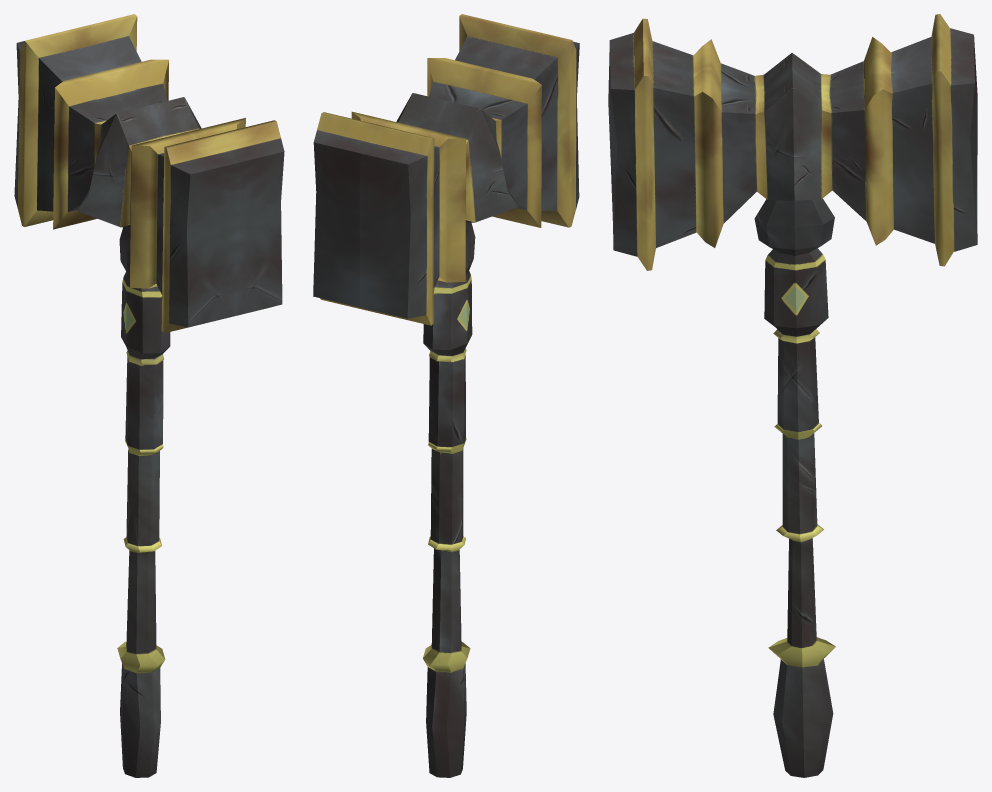
Rendered from Weapon_Hammer_DIGDIG.fbx.
3 renders of one model, left to right at view 1: azimuth 30°, elevation 25°; view 2: azimuth 150°, elevation 25°; view 3: azimuth 270°, elevation 25°, orthographic. The views are drawn at different scales.
Parts seen in each view (by area): view 1: pCube11; view 2: pCube11; view 3: pCube11.
Boxes of the visible parts, box(x1,y1,x2,y2) form: pCube11: box(14, 14, 284, 777); pCube11: box(313, 14, 579, 777); pCube11: box(608, 14, 977, 777).
Size of the model in its own units: 0.7612 by 3.49 by 1.6.
